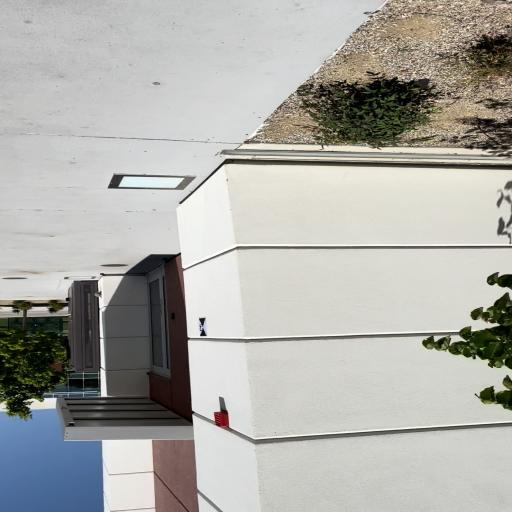target2: (198, 317, 209, 337)
